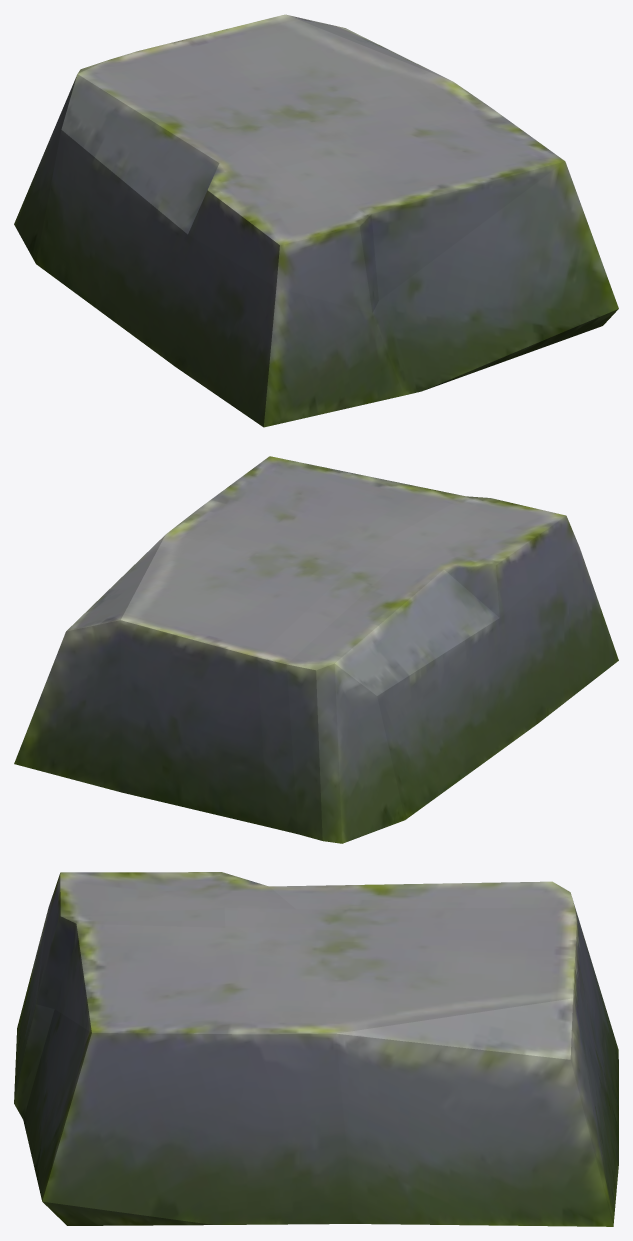
The model's file is Pebble_Square_5.gltf.
The picture shows the model from 3 angles, top to bottom: view 1: azimuth 30°, elevation 25°; view 2: azimuth 150°, elevation 25°; view 3: azimuth 270°, elevation 25°; orthographic projection. The views are drawn at different scales.
Parts seen in each view (by area): view 1: Pebble_Square_5; view 2: Pebble_Square_5; view 3: Pebble_Square_5.
Boxes of the visible parts, x1,y1,x2,y2 form: Pebble_Square_5: [14, 14, 618, 427]; Pebble_Square_5: [14, 456, 618, 843]; Pebble_Square_5: [14, 872, 618, 1226].
Size of the model in its own units: 0.352 by 0.1522 by 0.4504.
1 material, 1 textured.
